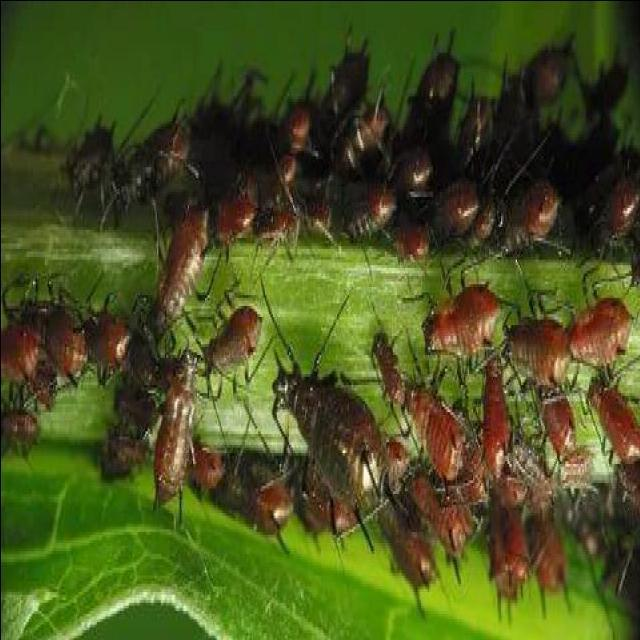aphid: (268, 359, 393, 556), (410, 263, 519, 367), (150, 353, 202, 515), (152, 203, 210, 335), (487, 479, 535, 619), (414, 386, 474, 494), (64, 112, 118, 222), (526, 490, 572, 616), (539, 389, 596, 490), (587, 156, 640, 261), (80, 288, 134, 387), (565, 296, 634, 373), (200, 304, 262, 388), (498, 175, 562, 256), (587, 374, 640, 471), (140, 100, 192, 196), (40, 291, 90, 390), (212, 169, 262, 266), (410, 31, 463, 120), (478, 357, 511, 487), (0, 314, 46, 398), (343, 178, 396, 244), (370, 329, 409, 417), (432, 177, 482, 242), (392, 210, 430, 266)
